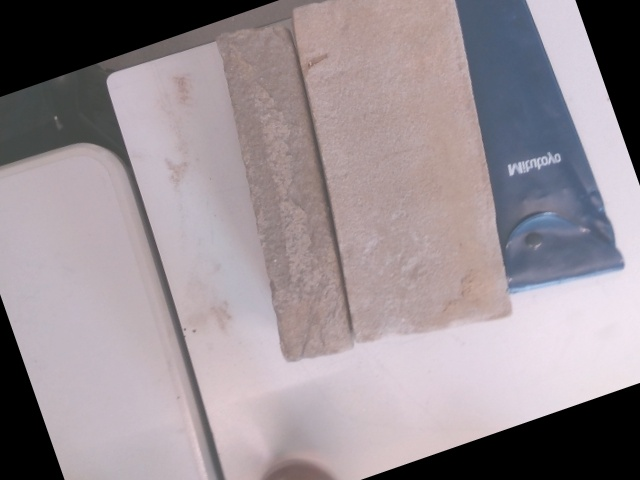brick: (300, 0, 509, 340)
